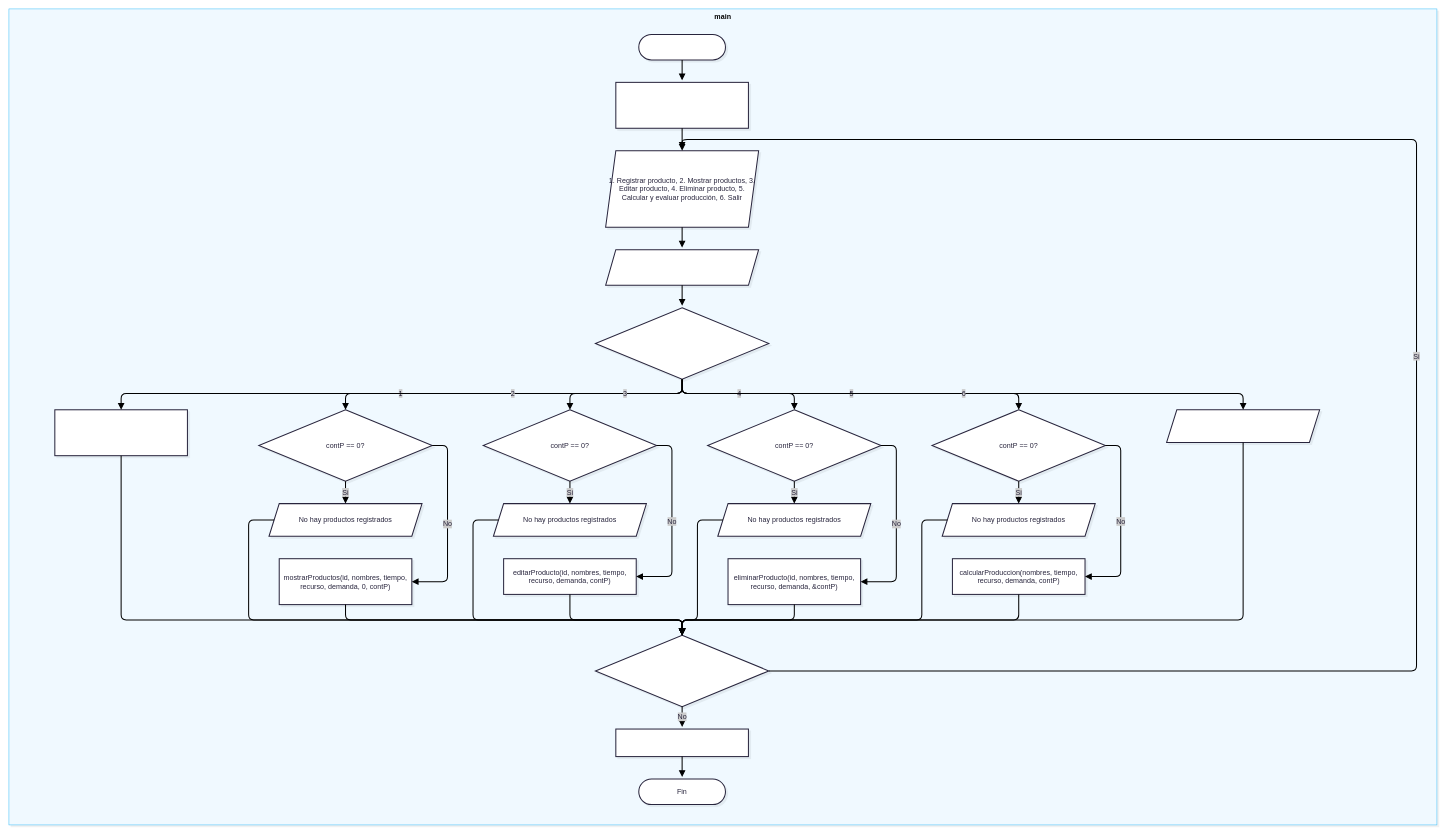
Some shapes in this 1448 by 836 pixel diagram are drawn without their labels. Here are the shapes that lost their labels. From the top down, the centre of each, then its label:
At (683,48): "Inicio main".
At (683,106): "id[5], nombres[5][50], tiempo[5], recurso[5], demanda[5]; contP = 0, opc".
At (683,268): "Seleccione una opción: opc = validarEnteroRango(1, 6)".
At (683,344): "Valor de opc".
At (122,433): "registrarProducto(id, nombres, tiempo, recurso, demanda, &contP)".
At (1244,427): "Saliendo del programa...".
At (683,671): "opc != 6?".
At (683,743): "return 0".
